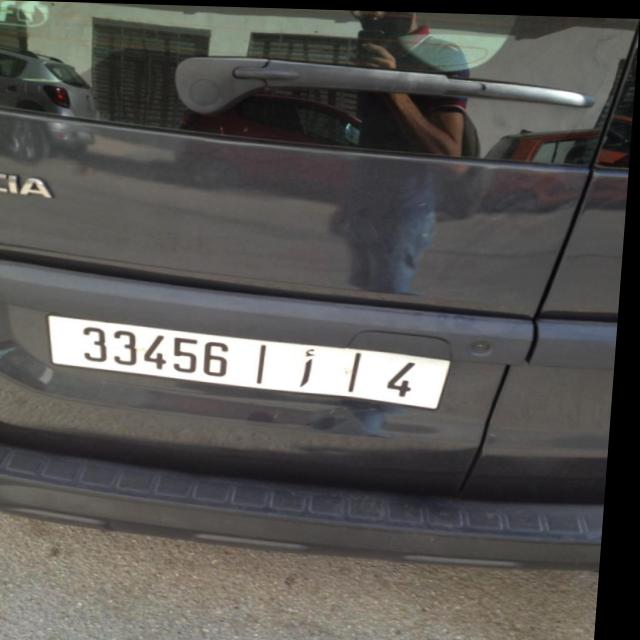License-Plate: (53, 316, 456, 406)
